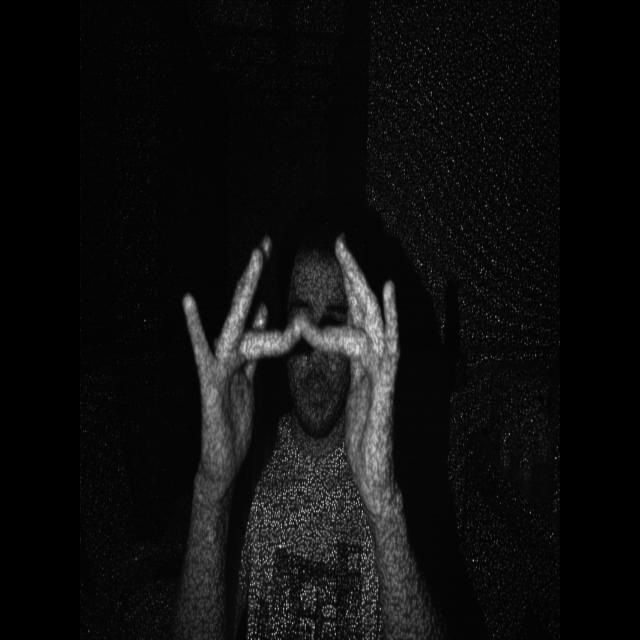REACH: (178, 202, 416, 516)
